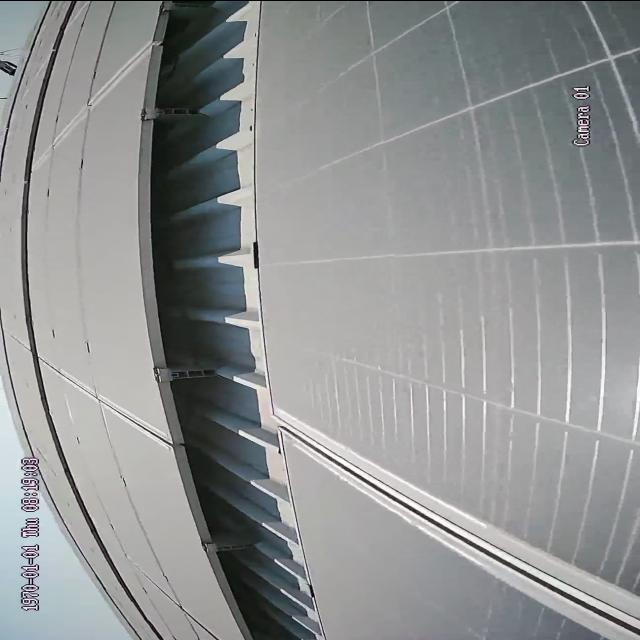interior panel: (142, 1, 321, 640), (300, 423, 625, 630), (37, 41, 144, 169), (50, 360, 163, 446)
